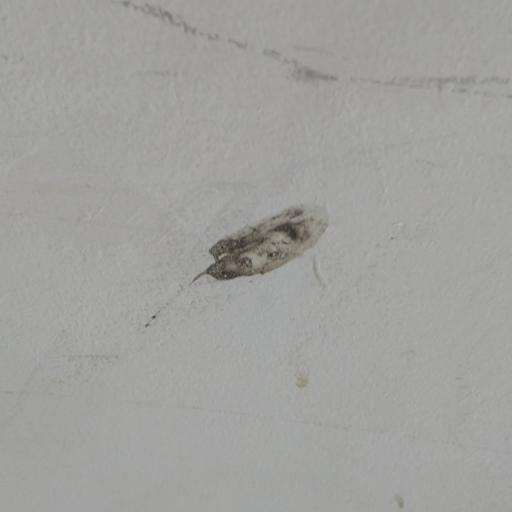stain: (128, 152, 357, 371), (104, 0, 507, 114)
